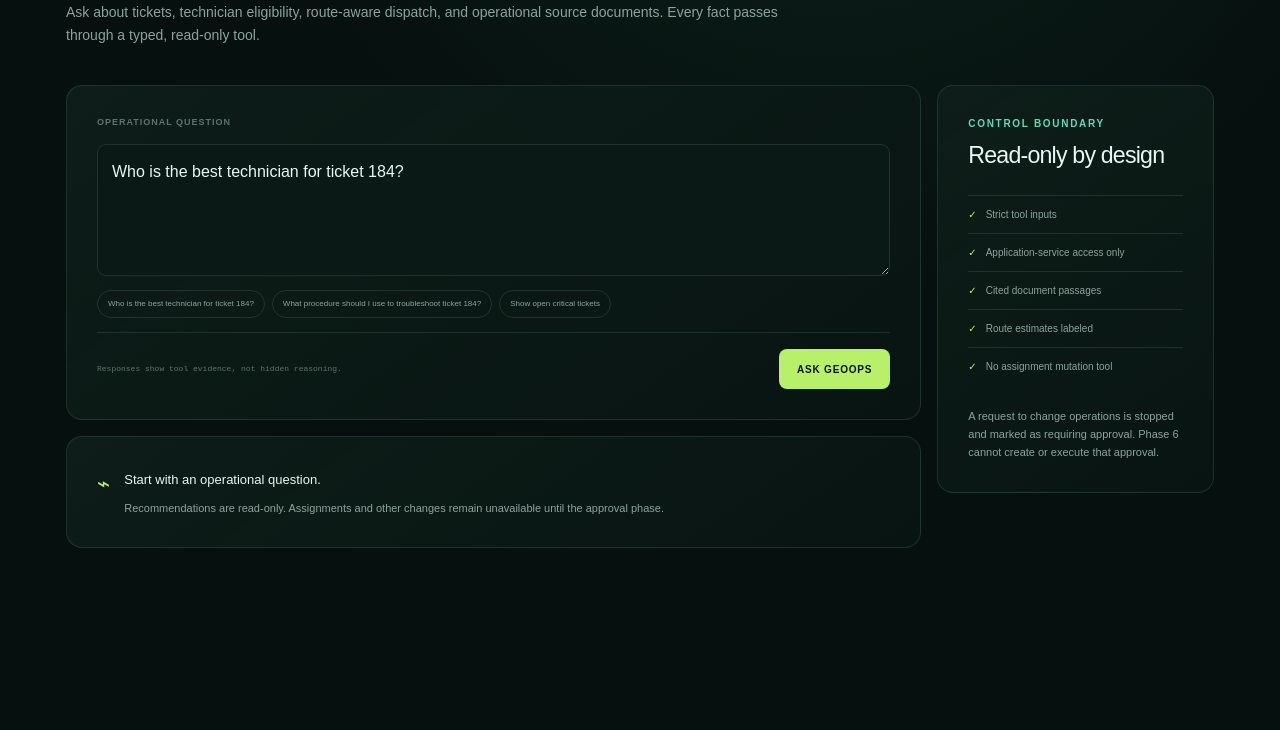
it: AgentWorkspace › renders an answer and safe tool evidence
This screenshot has width=1280, height=730.
Click the button "Ask GeoOps".
click(835, 369)  # box 779,349 -> 890,389
(page scrolled)
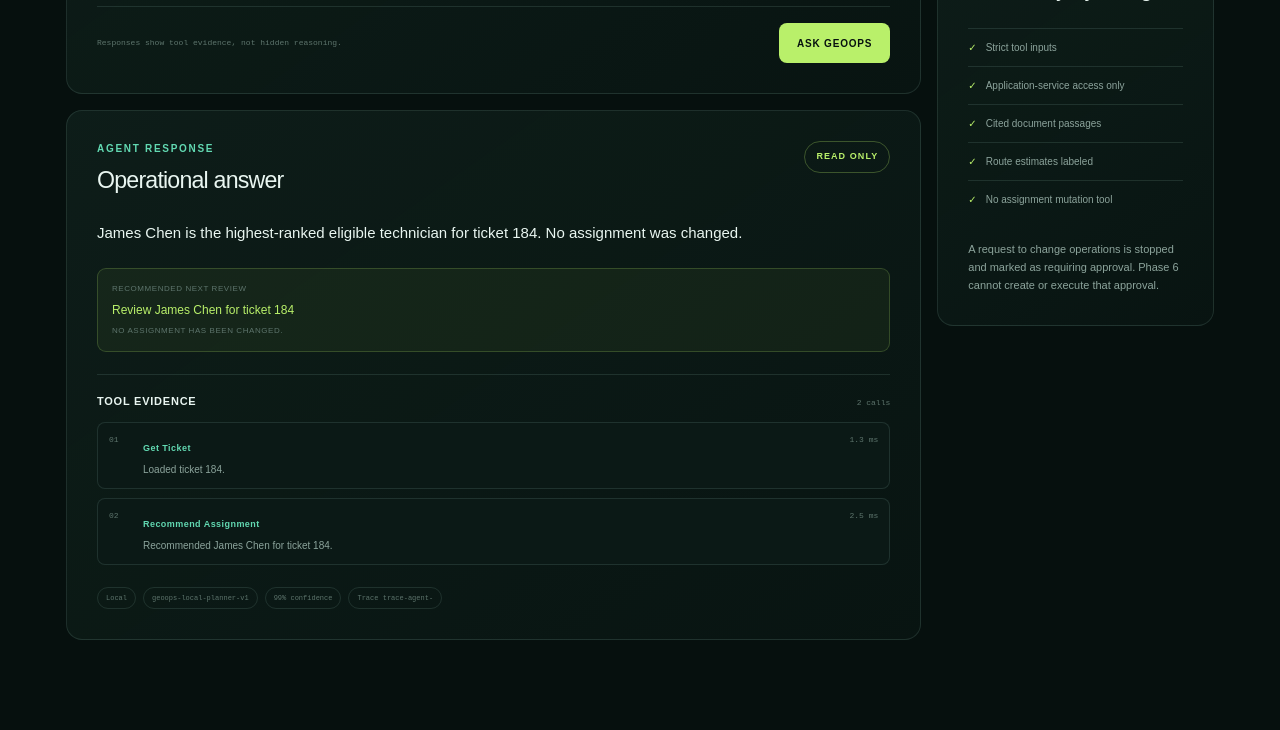
Now the text "James Chen is the highest-ranked" is shown, box 97,224 -> 742,241
Now the text "Get Ticket" is shown, box 143,443 -> 191,453
Now the text "Recommend Assignment" is shown, box 143,519 -> 260,529
